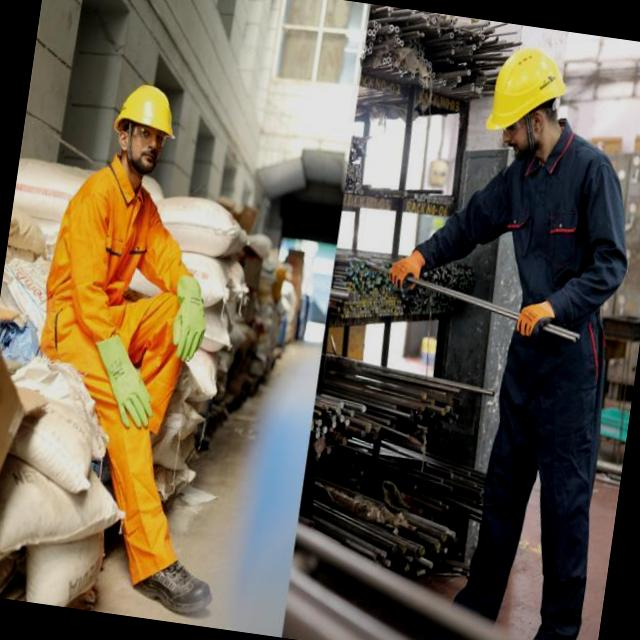boots: (118, 536, 226, 628)
gloves: (87, 323, 168, 440), (154, 266, 245, 368), (510, 283, 563, 351), (390, 236, 436, 308)
helmet: (474, 32, 580, 148), (105, 75, 190, 150)
no-vest: (472, 119, 640, 378), (39, 158, 184, 384)
